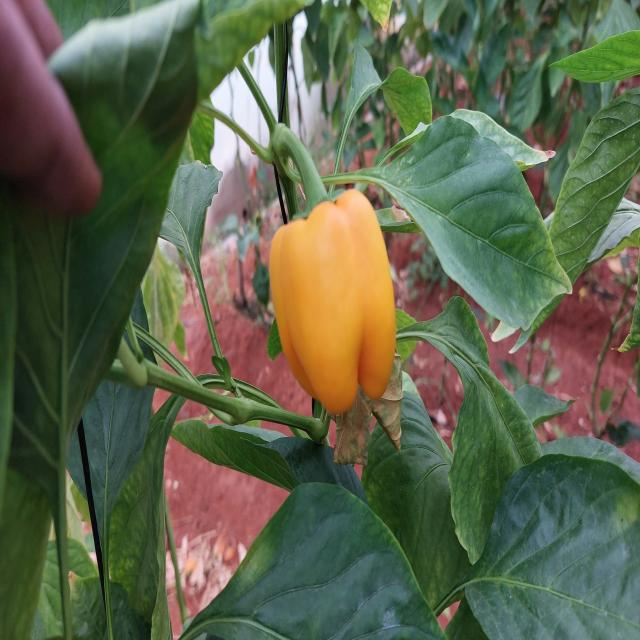Yellow-Ready-to-Harvest: (268, 188, 400, 413)
